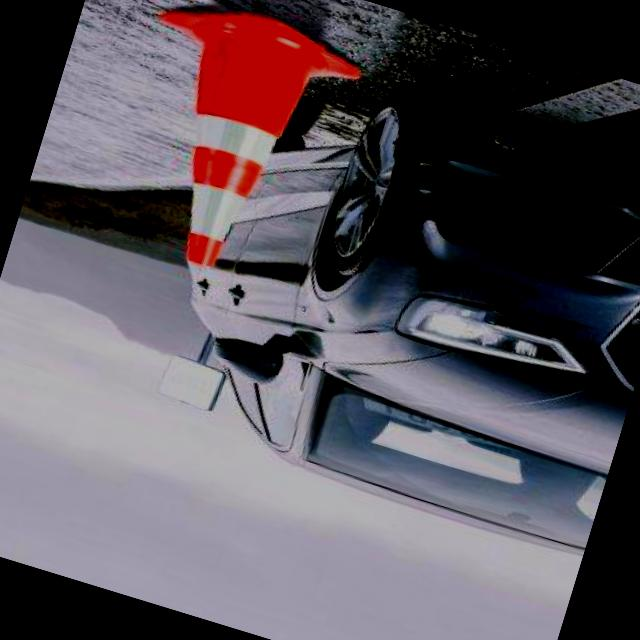cone: (96, 0, 383, 294)
